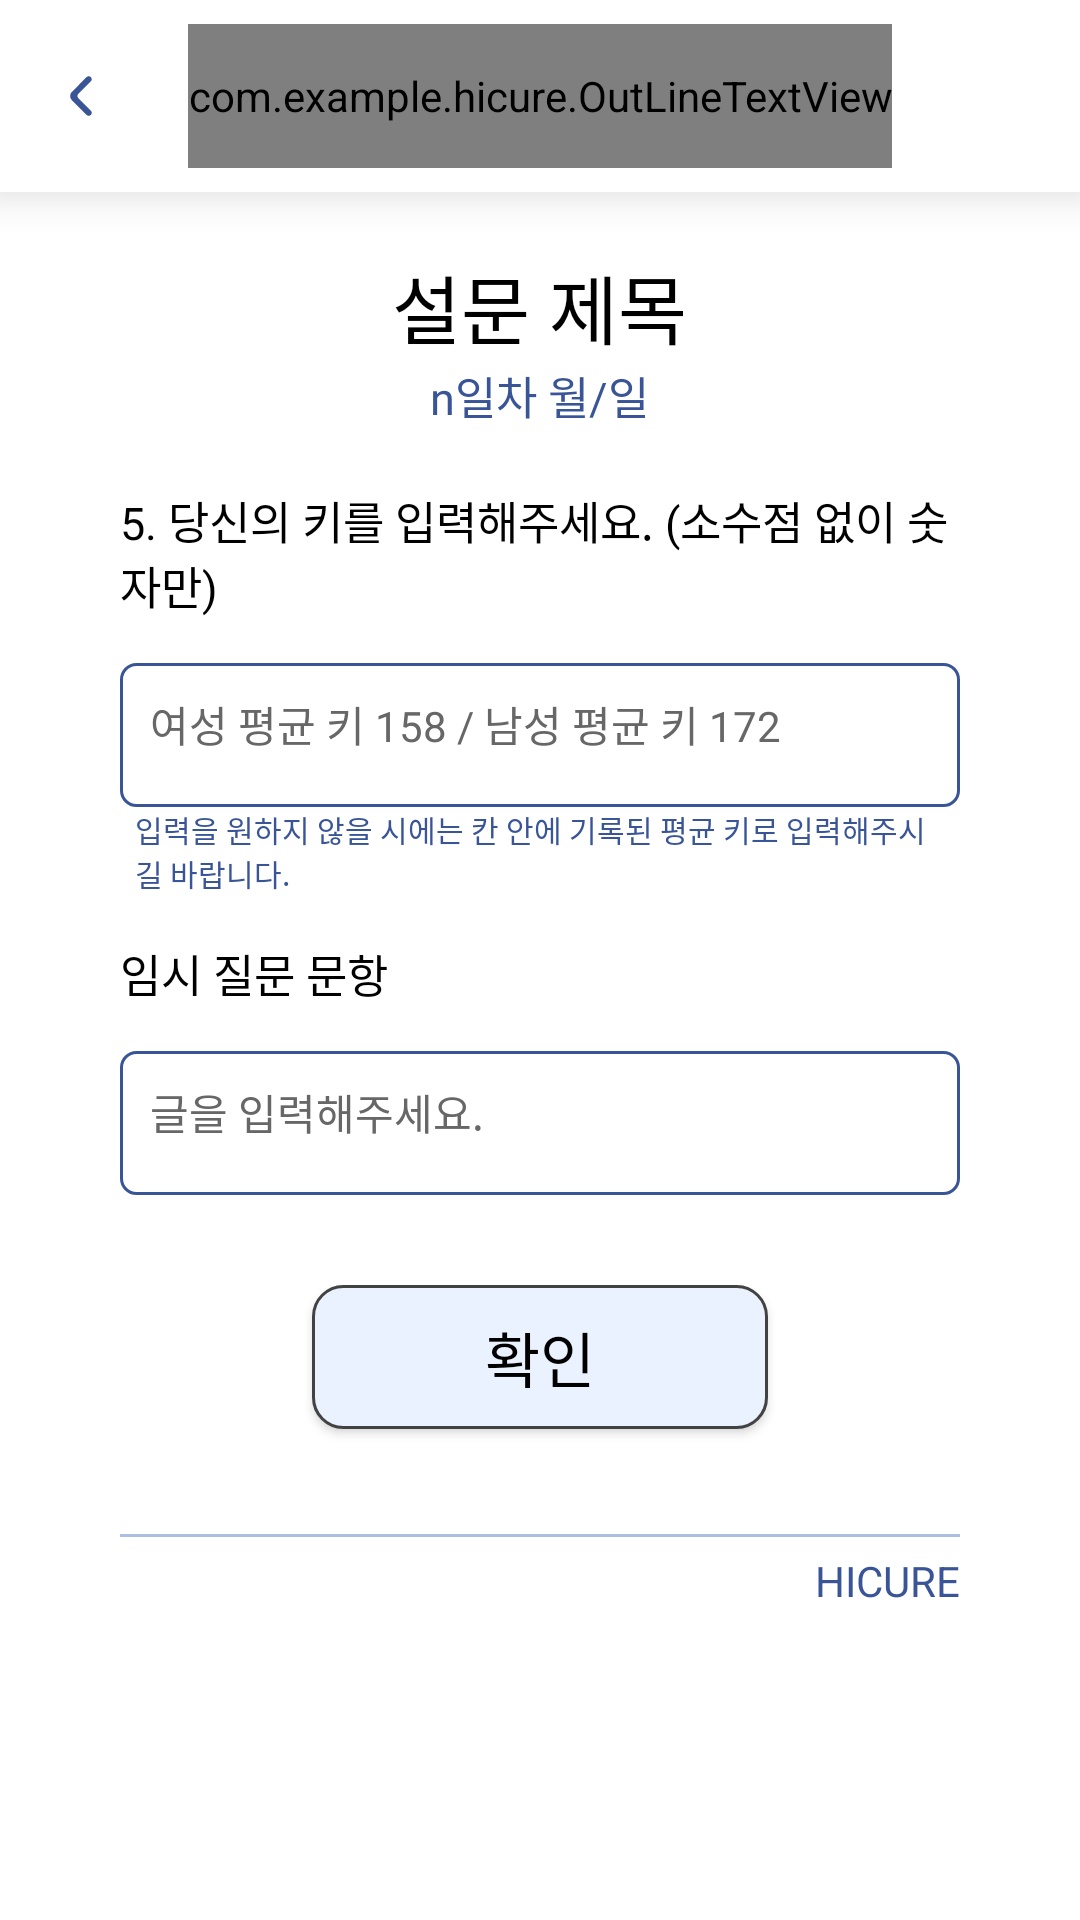

Icon click points for this 1080×1920 phone screenshot, format [x,y]:
back: [81,96]
